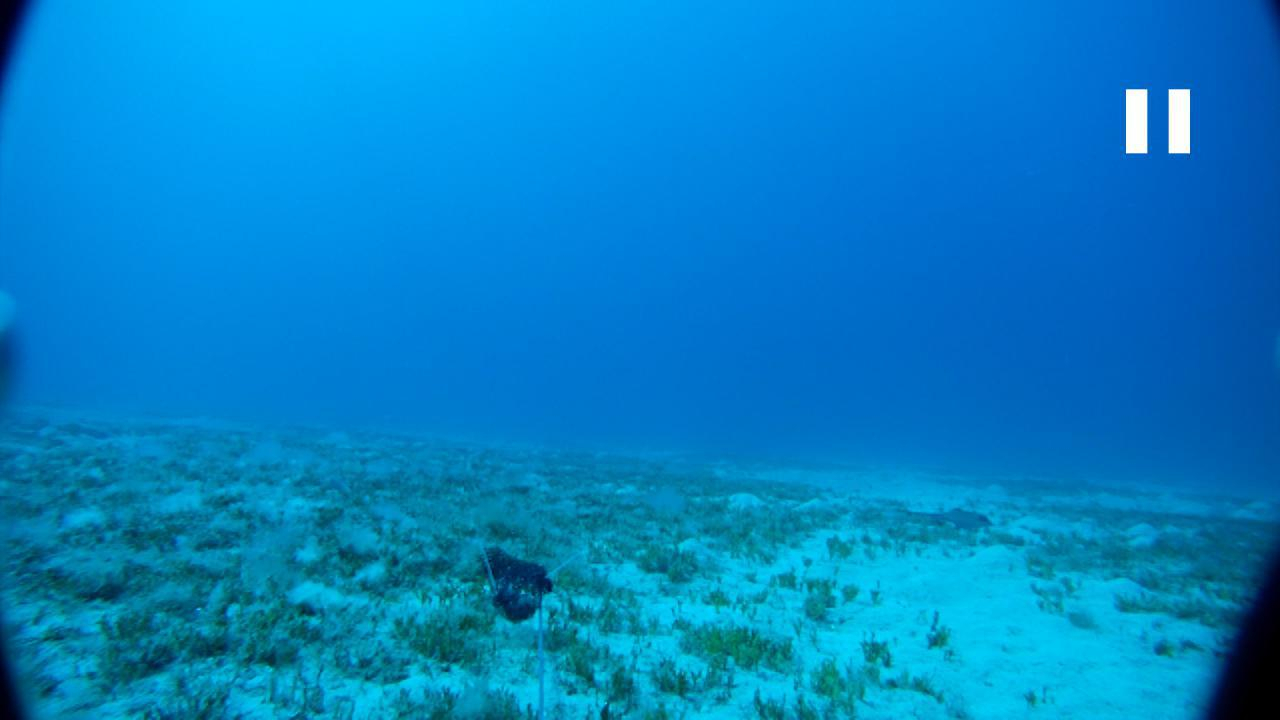dasyatis: (895, 505, 996, 531)
